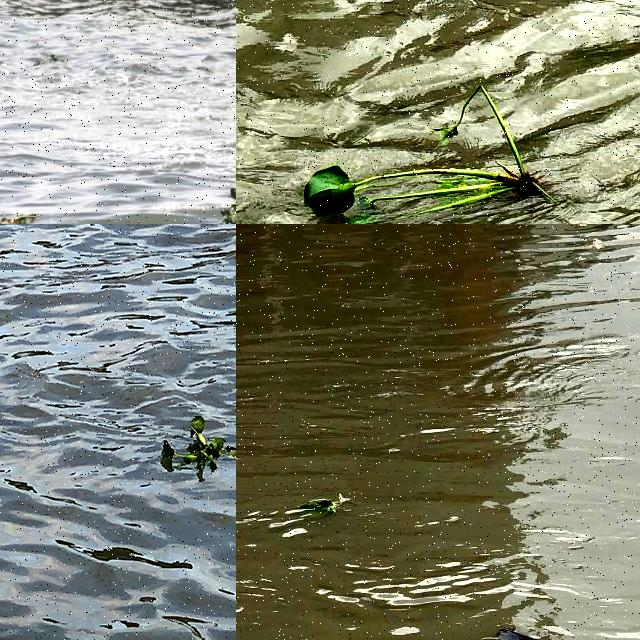water-hyacinth: (301, 81, 552, 222), (141, 411, 237, 473)
